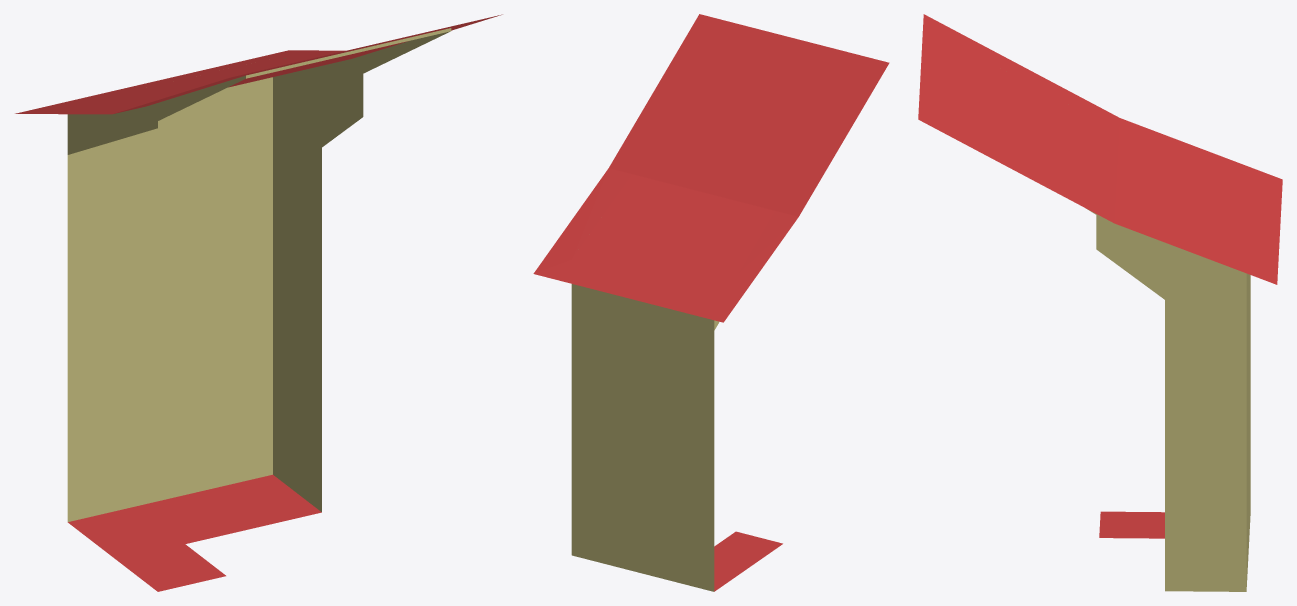
3 renders of one model, left to right at view 1: azimuth 30°, elevation 25°; view 2: azimuth 150°, elevation 25°; view 3: azimuth 270°, elevation 25°, orthographic. The views are drawn at different scales.
Bounding box in the file's own units: 6.15 × 8.7 × 12.71.
